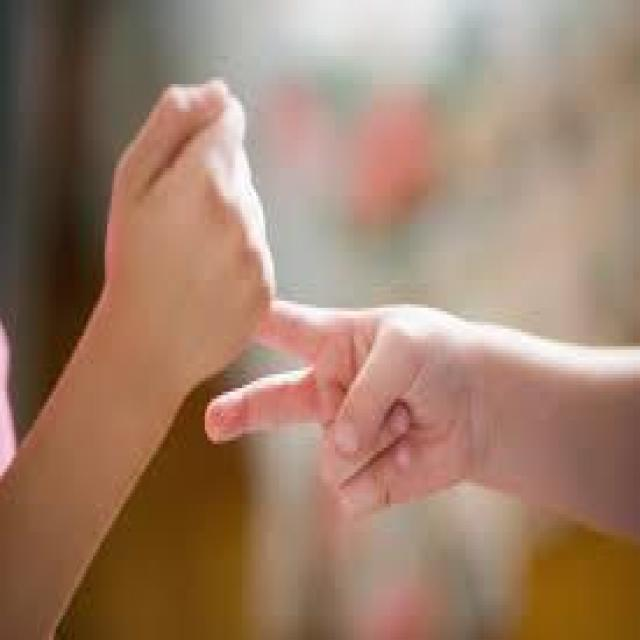rock: (63, 70, 287, 383)
scirssors: (203, 298, 501, 530)
